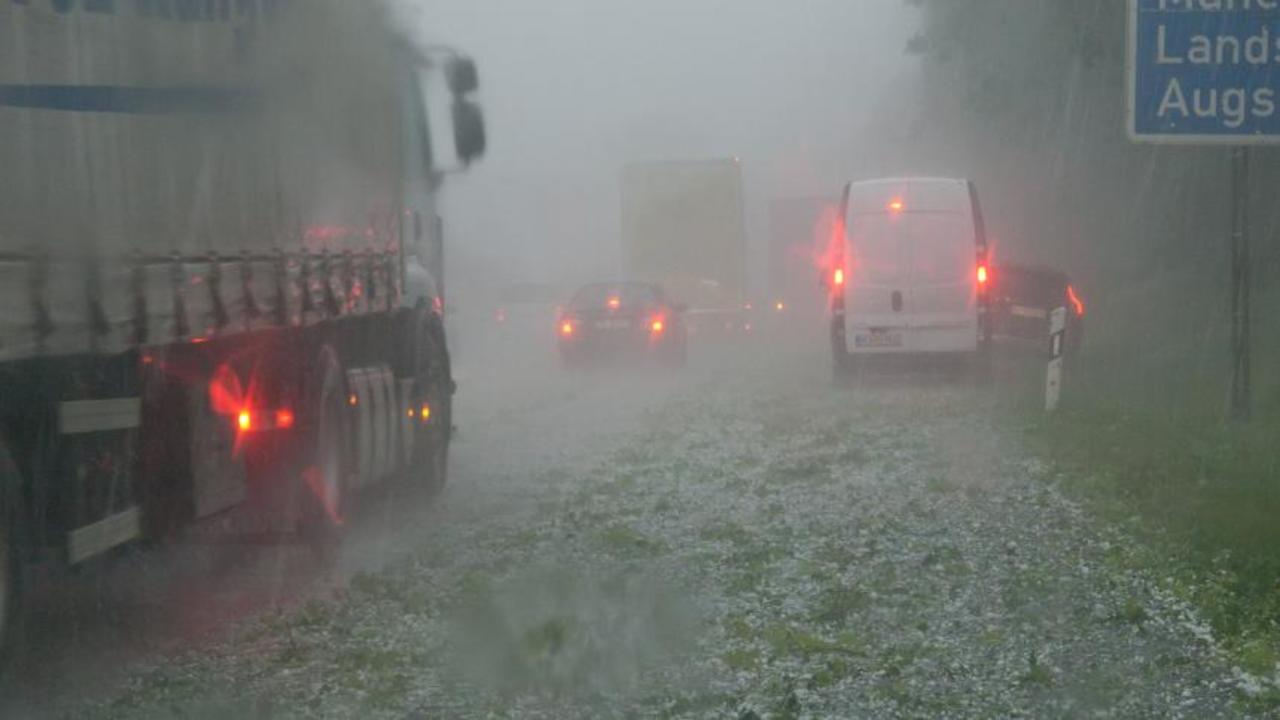car: (823, 172, 992, 378), (557, 278, 689, 367), (990, 257, 1084, 365), (488, 274, 569, 338)
truck: (4, 4, 482, 685), (629, 159, 749, 338), (768, 186, 838, 339)
